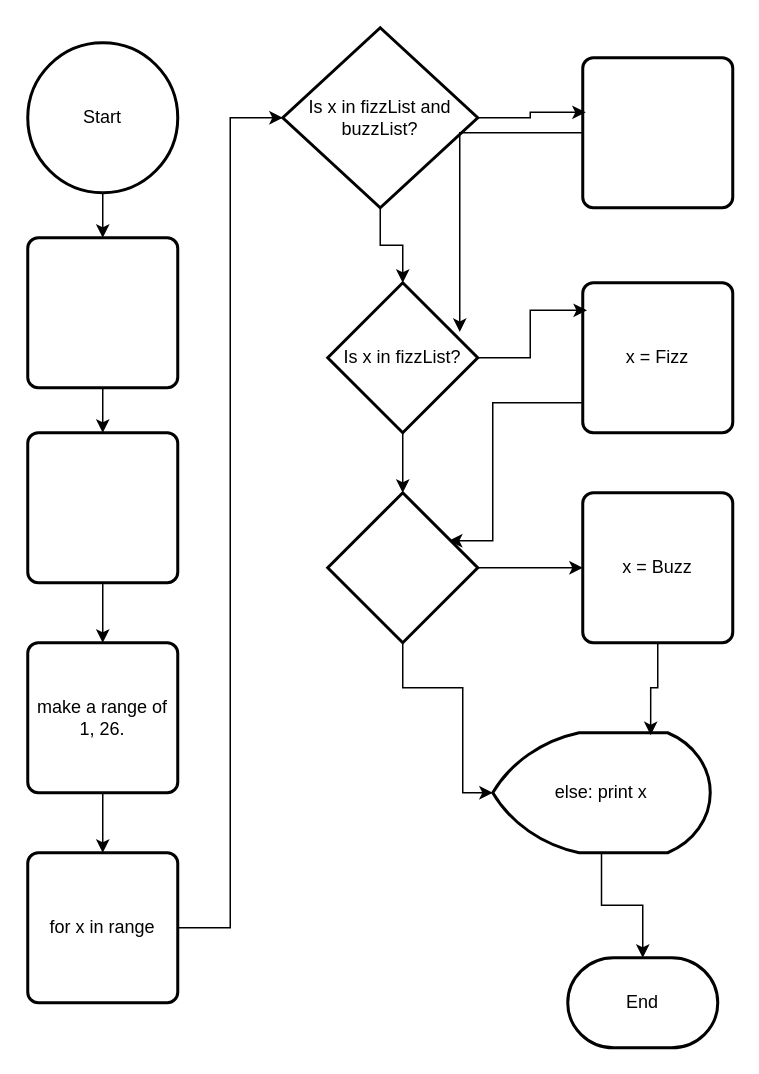
The diagram is 759 pixels wide and 1074 high, and some of its shapes have lost their labels. The centre of each missing label's shape, as x and y in pixels:
"Create a list of multiples of 3 fizzList" goes at point (102, 312).
"Create a list of multiples of 5 buzzList" goes at point (102, 507).
"Is x in buzzList?" goes at point (402, 567).
"x = FizzBuzz" goes at point (657, 132).
